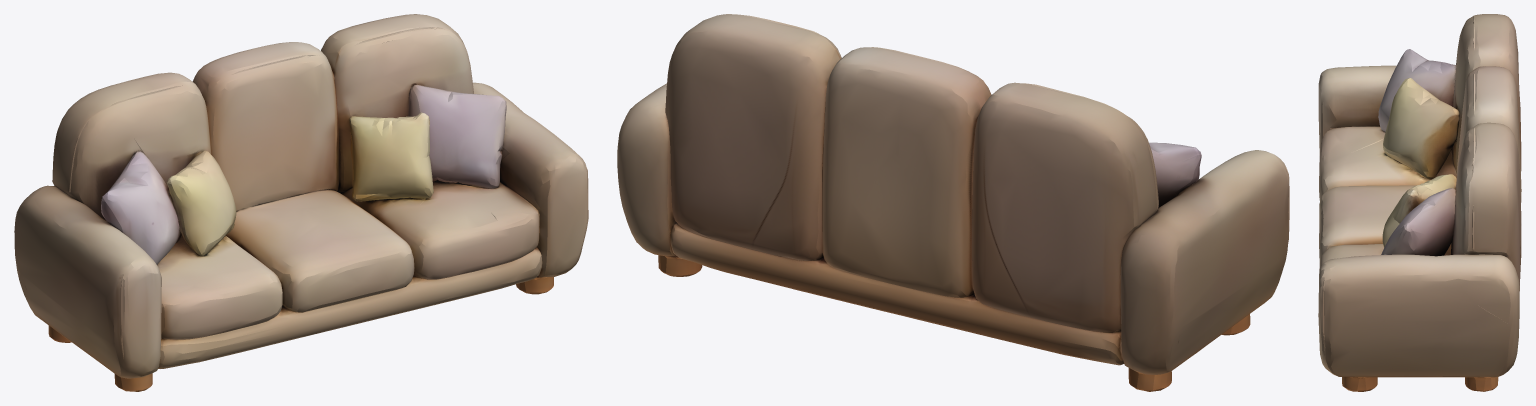
File: sofa.glb
3 renders of one model, left to right at view 1: azimuth 30°, elevation 25°; view 2: azimuth 150°, elevation 25°; view 3: azimuth 270°, elevation 25°, orthographic. The views are drawn at different scales.
Parts seen in each view (by area): view 1: model; view 2: model; view 3: model.
Part boxes in pixels (x1,y1,x2,y2): model: (14, 14, 588, 391); model: (617, 14, 1289, 391); model: (1318, 14, 1521, 391).
Bounding box in the file's own units: 1.87 × 0.857 × 0.748.
Materials: 1 (1 with a texture image).
